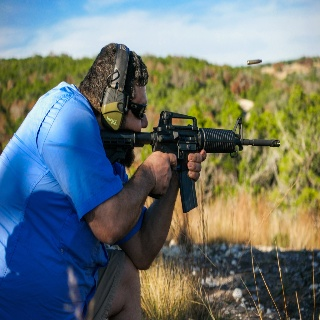rifle: (100, 110, 282, 214)
